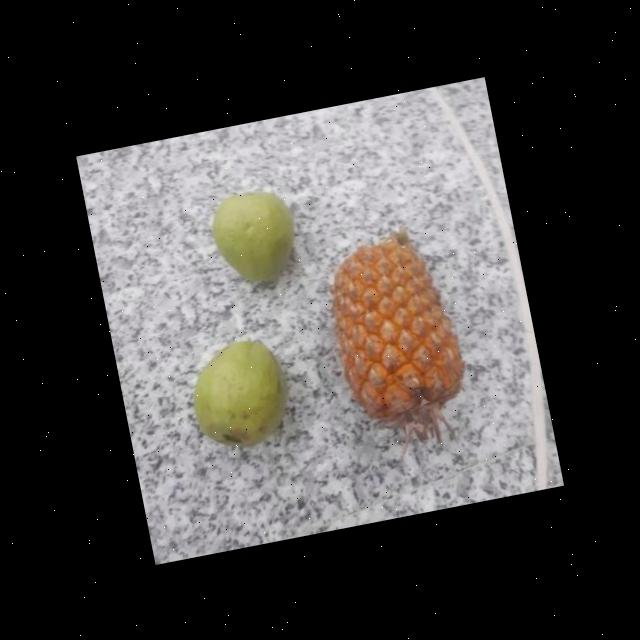guava: (185, 334, 297, 456), (206, 182, 307, 298)
pineapple: (314, 216, 482, 459)
